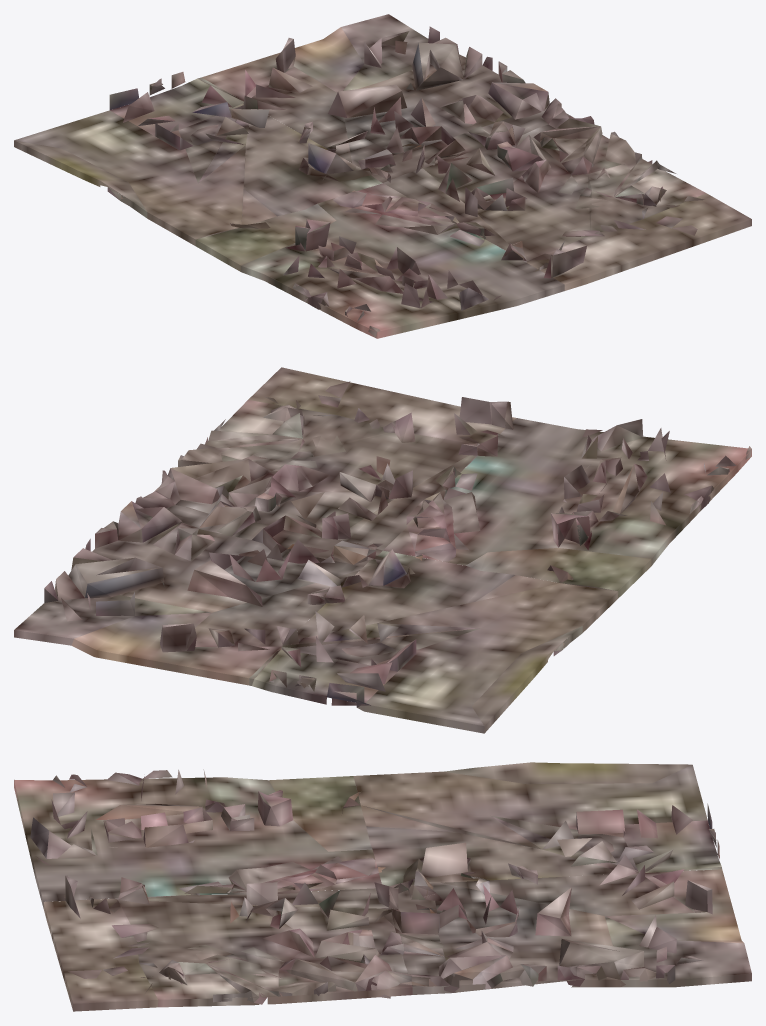
3 renders of one model, top to bottom at view 1: azimuth 30°, elevation 25°; view 2: azimuth 150°, elevation 25°; view 3: azimuth 270°, elevation 25°, orthographic. The views are drawn at different scales.
Parts seen in each view (by area): view 1: Mesh_0; view 2: Mesh_0; view 3: Mesh_0.
Part boxes in pixels (x1=…): Mesh_0: x1=14, y1=14, x2=751, y2=338; Mesh_0: x1=14, y1=367, x2=751, y2=733; Mesh_0: x1=14, y1=762, x2=751, y2=1011.
Bounding box in the file's own units: 1065 × 84.16 × 1318.
1 material, 1 textured.
